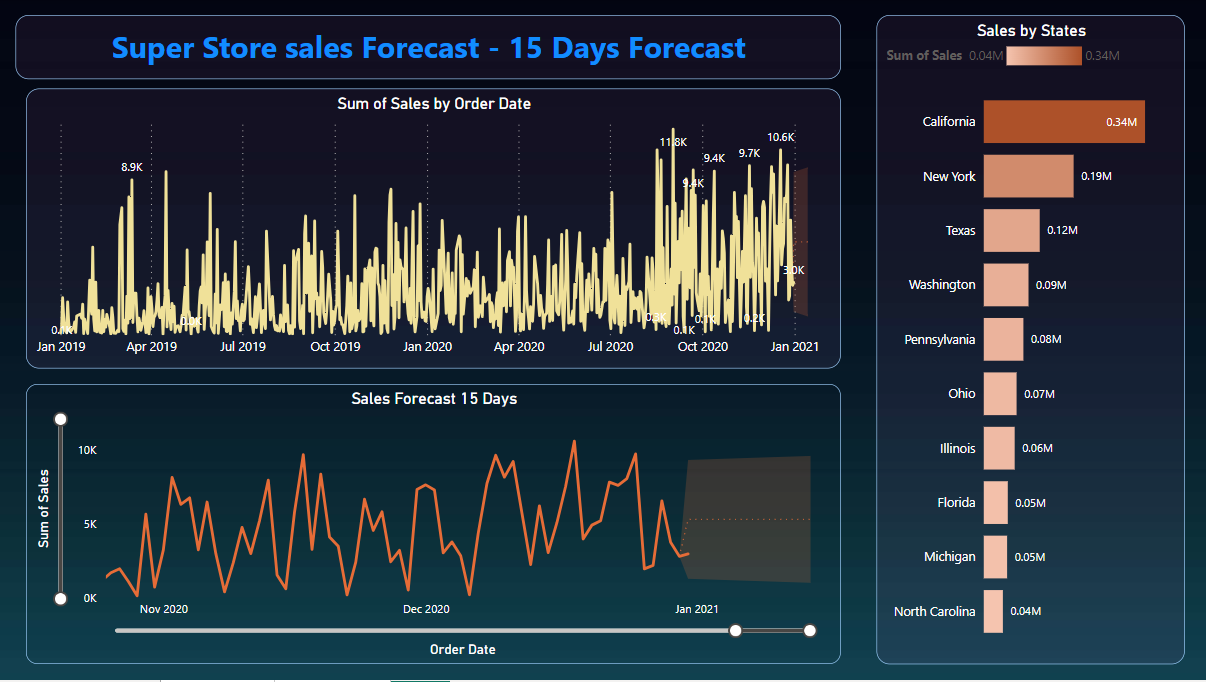

The page's visual inventory and layout, read from the dashboard file:
{"tool":"powerbi","page":{"name":"Page 2","canvas":[1280,720],"ordinal":1},"visuals":[{"type":"lineChart","fields":{"Y":["Sum(SuperStore_Sales_Dataset.Sales)"],"Category":["SuperStore_Sales_Dataset.Order Date"]},"box":[28.3,94.5,863.6,296.7],"z":0},{"type":"lineChart","title":"Sales Forecast 15 Days","fields":{"Y":["Sum(SuperStore_Sales_Dataset.Sales)"],"Category":["SuperStore_Sales_Dataset.Order Date"]},"box":[28.3,406.3,863.6,296.7],"z":1000},{"type":"barChart","title":"Sales by States","fields":{"Y":["Sum(SuperStore_Sales_Dataset.Sales)"],"Category":["SuperStore_Sales_Dataset.State"]},"box":[929.8,15.1,326.9,687.9],"z":2000},{"type":"textbox","box":[17,15.1,875,68],"z":3000}]}

Visuals, with their boxes in screenshot pixels (x1, y1, x2, y2), scaled from the page's 1280x720 canvas onto the 1206x682 screenshot:
lineChart - Sum(SuperStore_Sales_Dataset.Sales) x SuperStore_Sales_Dataset.Order Date: (27, 90, 840, 371)
"Sales Forecast 15 Days" lineChart: (27, 385, 840, 666)
"Sales by States" barChart: (876, 14, 1184, 666)
textbox: (16, 14, 840, 79)
